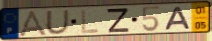5: (141, 5, 162, 33)
A: (16, 9, 49, 37), (164, 6, 192, 31)
L: (80, 8, 100, 35)
U: (44, 9, 71, 36)
Z: (105, 7, 131, 33)
